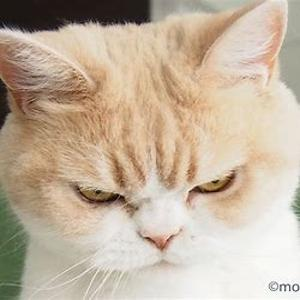cat: (2, 28, 293, 277)
